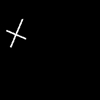single_crochet: (7, 19, 25, 46)
